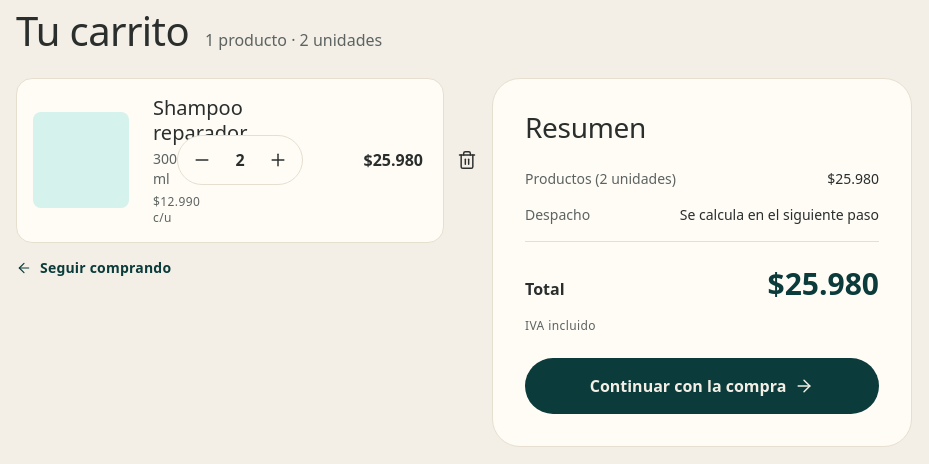
SCRUM-116 · Pantalla del carrito › E5-H1 FE · agregar y cambiar: quitar el último artículo deja el carrito vacío
Step 1. Click the button named "Quitar Shampoo reparador 300 ml del carrito" → click(467, 160), box [447, 140, 487, 180]
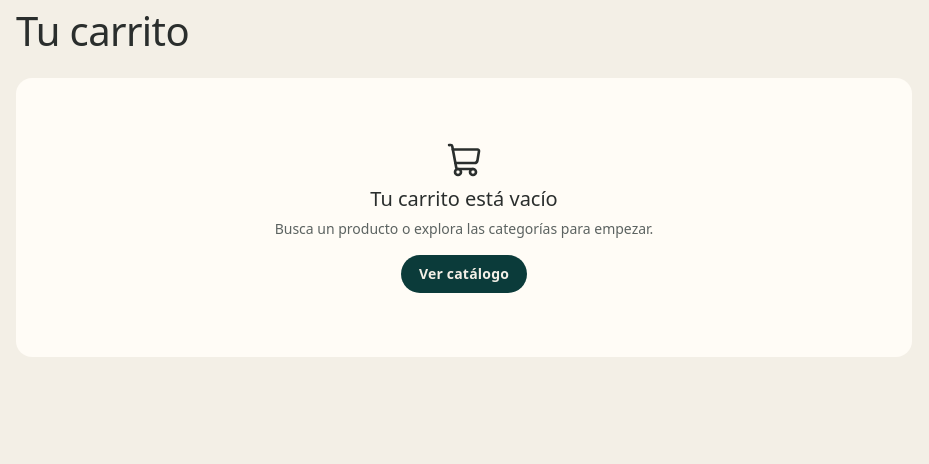
Expected: the heading "Tu carrito está vacío" is shown, [370, 186, 558, 211]
